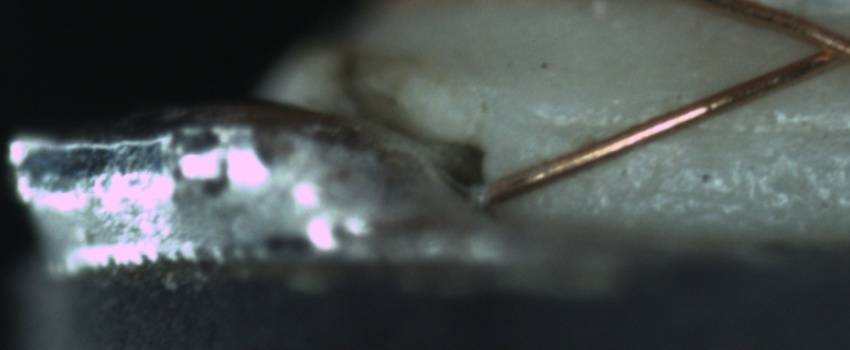CL: (791, 17, 850, 74)
DL: (532, 99, 850, 161)
